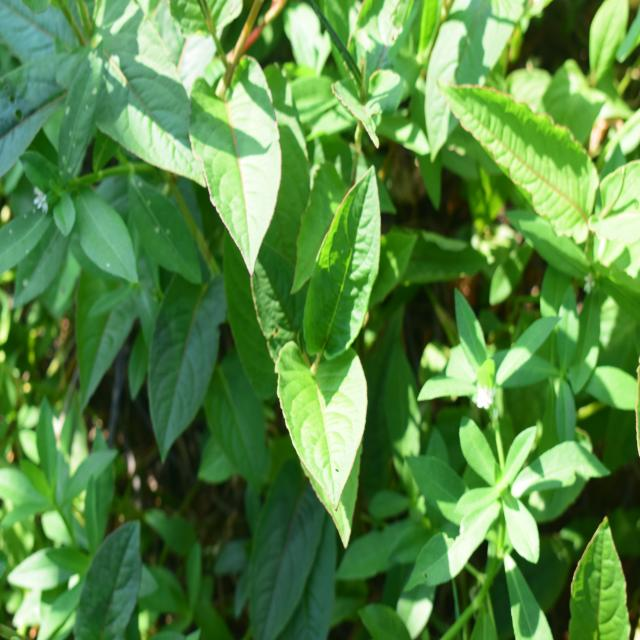Chinese_knotweed: (184, 57, 394, 523)
